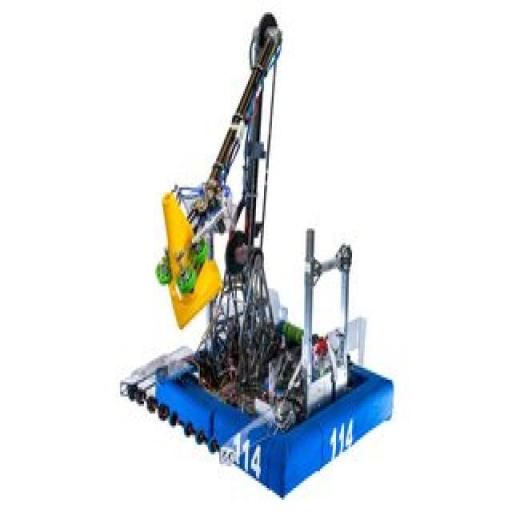robot: (108, 1, 399, 504)
